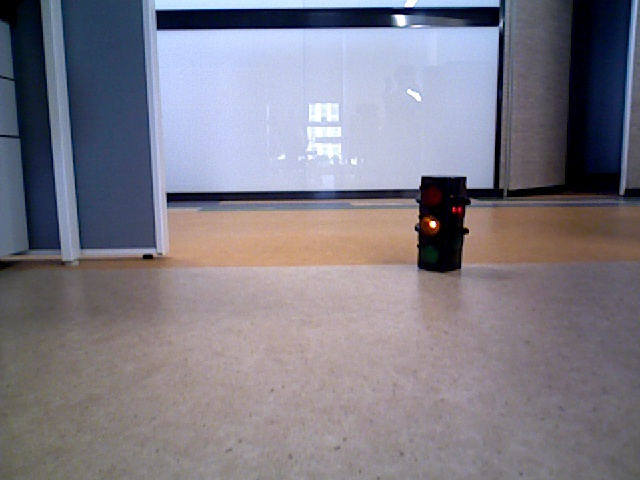yellow: (420, 177, 459, 269)
